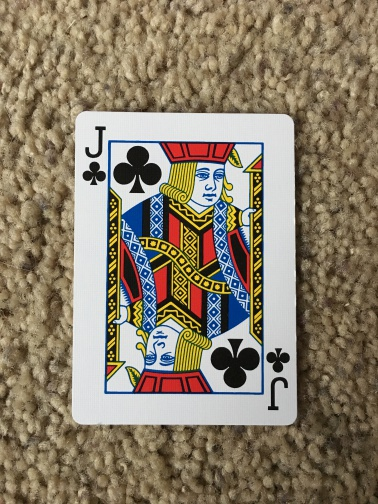jack: (70, 110, 301, 426)
